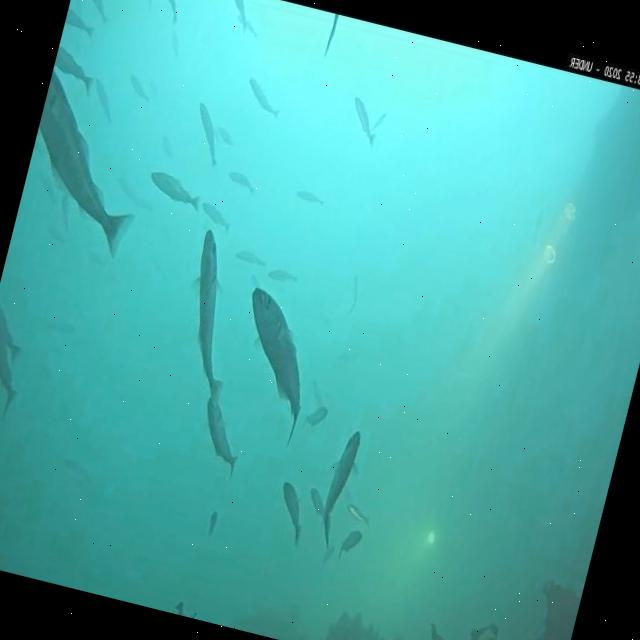fish: (13, 70, 164, 258), (218, 284, 326, 439), (166, 228, 256, 394), (316, 427, 366, 546), (192, 397, 248, 472), (0, 317, 32, 417), (186, 101, 228, 168), (270, 483, 312, 543), (145, 170, 204, 210), (49, 46, 96, 92), (0, 300, 32, 365), (344, 96, 384, 147), (240, 76, 286, 120), (85, 74, 120, 120), (199, 202, 237, 232), (62, 10, 97, 40), (336, 526, 364, 563), (220, 0, 253, 31), (145, 0, 186, 22), (122, 72, 153, 101), (304, 488, 330, 522), (58, 456, 94, 480), (342, 275, 362, 317), (224, 168, 256, 194), (342, 502, 372, 528), (322, 13, 339, 56), (302, 403, 327, 432), (76, 0, 112, 20), (266, 266, 300, 286), (234, 248, 268, 267), (164, 22, 183, 54), (234, 14, 260, 36), (294, 189, 324, 207), (366, 112, 386, 136), (336, 348, 364, 364), (319, 544, 336, 570), (215, 127, 238, 146), (135, 0, 160, 15), (310, 381, 326, 404), (204, 511, 218, 537)
